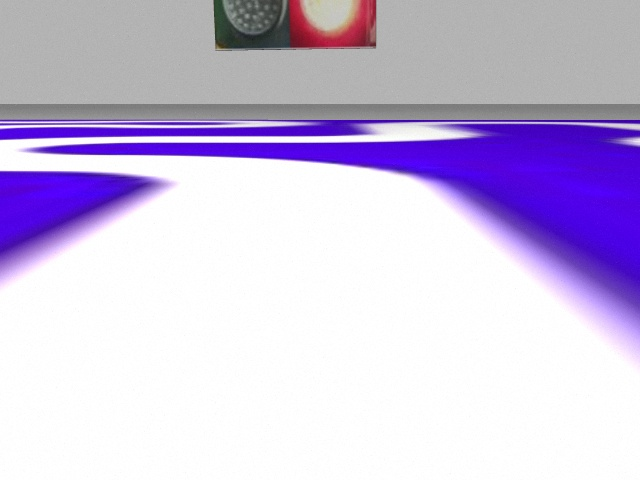red: (288, 1, 377, 48)
